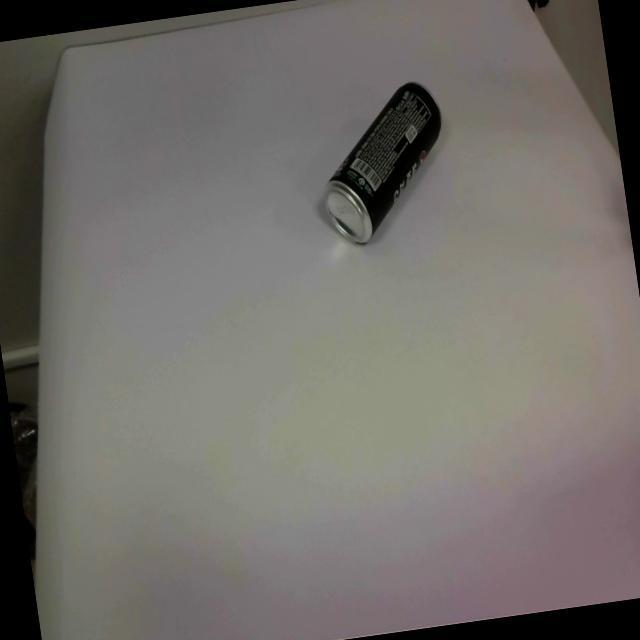debris: (304, 78, 456, 252)
